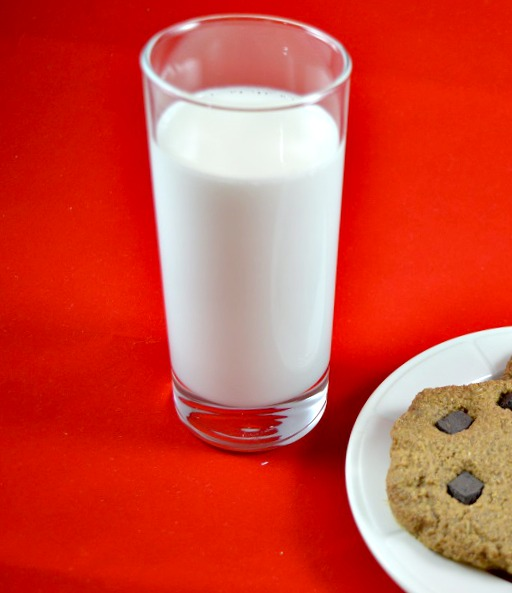glass of milk: (153, 54, 329, 454)
